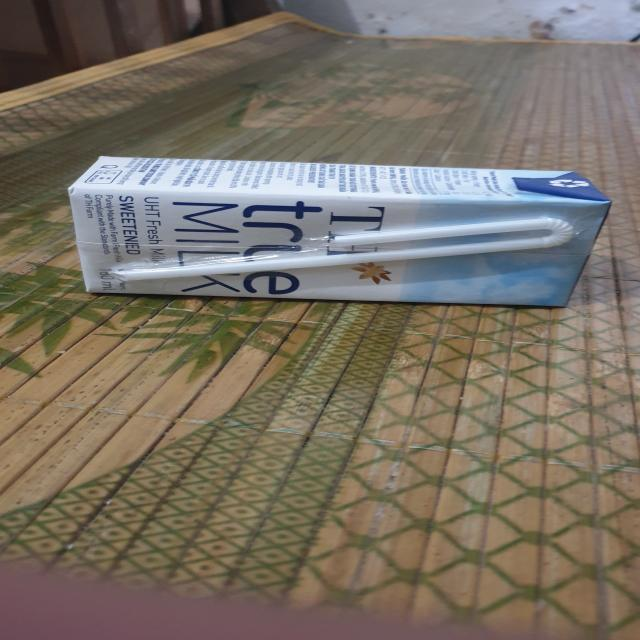TH: (60, 152, 619, 312)
